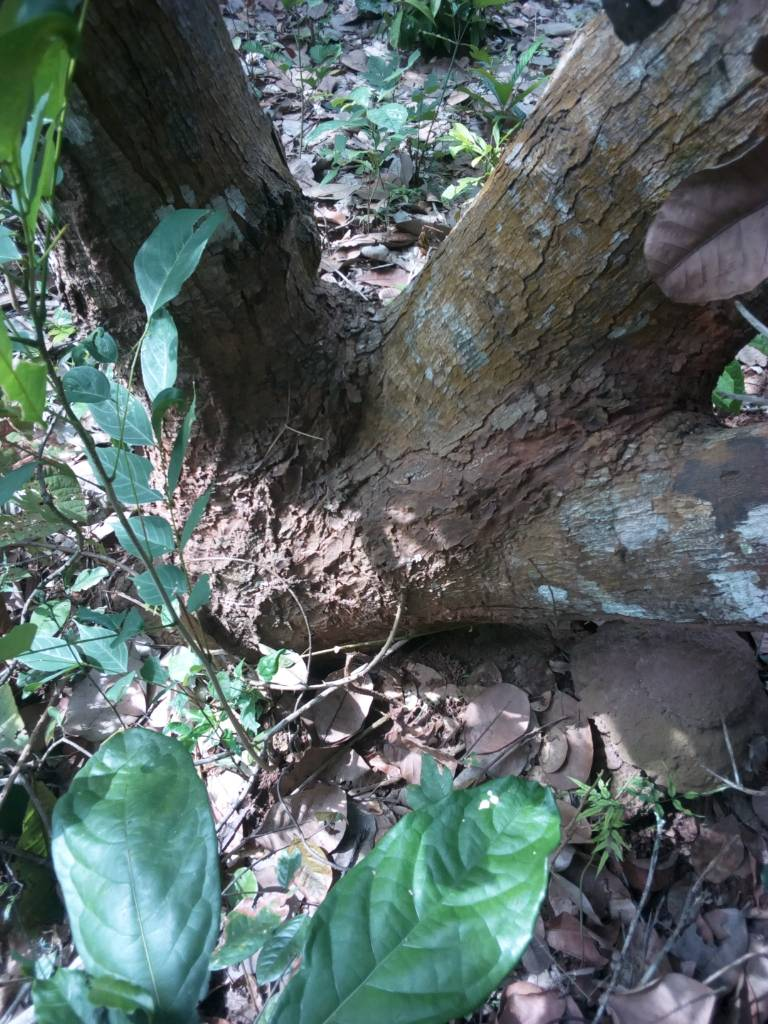Termites: (186, 439, 543, 619)
